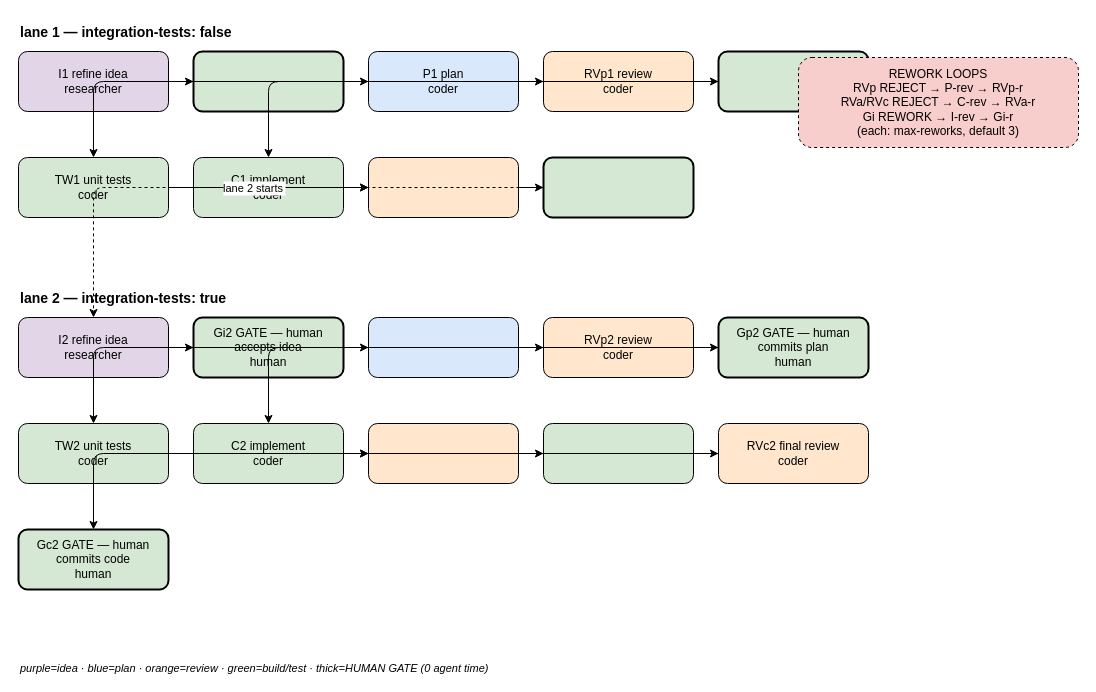
Some shapes in this 1096 by 692 pixel diagram are drawn without their labels. The box of each missing label's shape, as (x1, y1, x2, y2) in pixels:
Gc1 GATE — human commits code human: (542, 156, 694, 218)
Gi1 GATE — human accepts idea human: (192, 50, 344, 112)
Gp1 GATE — human commits plan human: (717, 50, 869, 112)
P2 plan coder: (368, 316, 518, 378)
RVa1 review coder: (368, 156, 518, 218)
RVa2 review coder: (368, 422, 518, 484)
TI2 integration tests coder: (542, 422, 694, 484)
